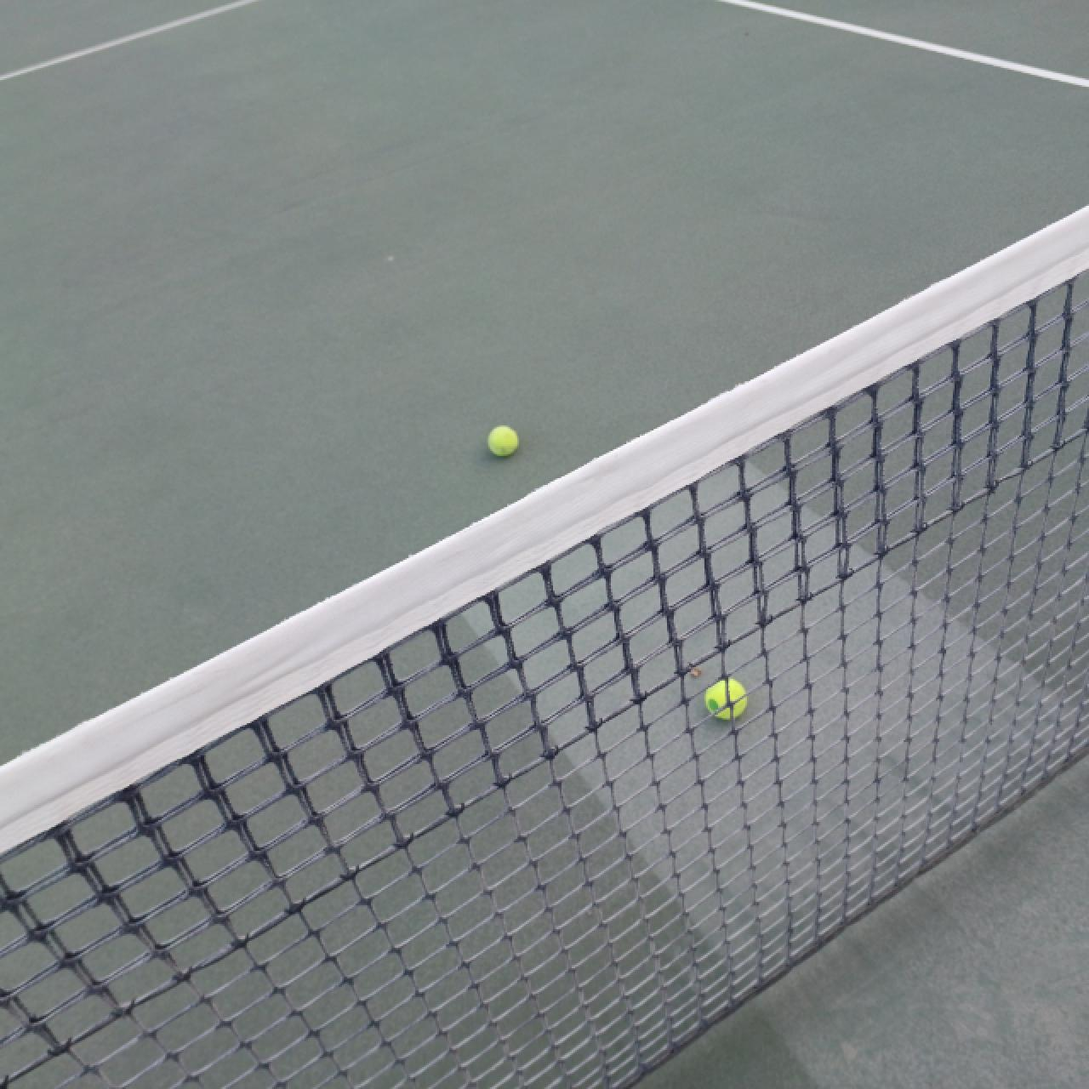tennis-ball: (705, 677, 748, 720), (485, 423, 519, 458)
